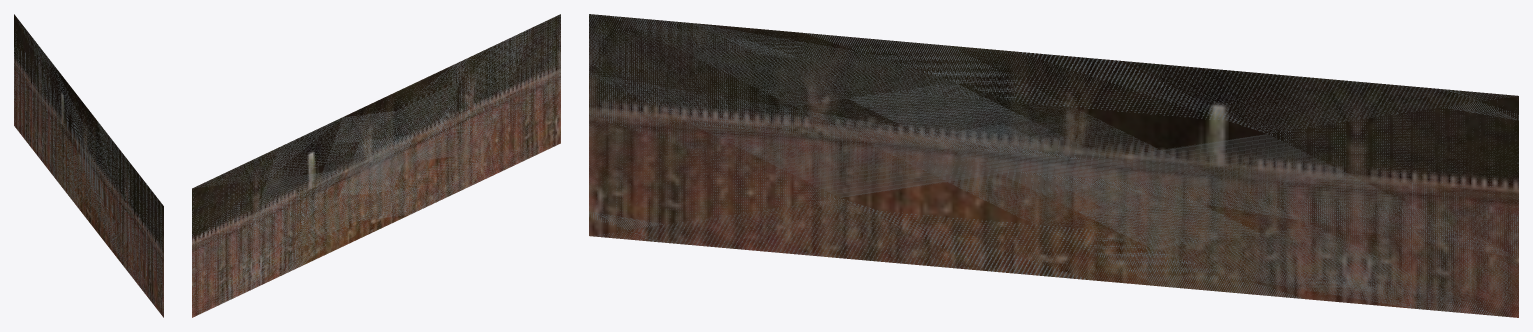
The model's file is 西庸城堡535.dae.
3 views of the same model, side by side, from view 1: azimuth 30°, elevation 25°; view 2: azimuth 150°, elevation 25°; view 3: azimuth 270°, elevation 25° (orthographic). The views are drawn at different scales.
Visible parts, largest first — view 1: SketchUp; view 2: SketchUp; view 3: SketchUp.
Boxes of the visible parts, x1,y1,x2,y2 form: SketchUp: [14, 14, 163, 317]; SketchUp: [192, 14, 560, 317]; SketchUp: [589, 14, 1518, 317].
Bounding box in the file's own units: 63.13 × 303 × 79.85.
